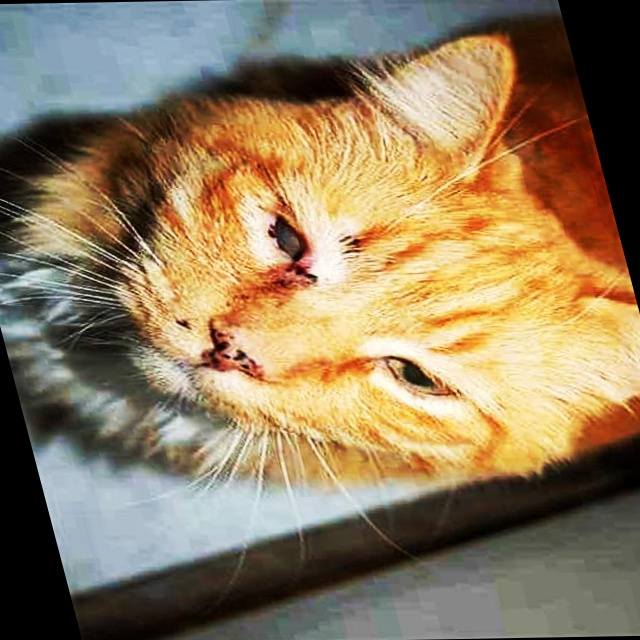eye_infection: (261, 219, 316, 273)
